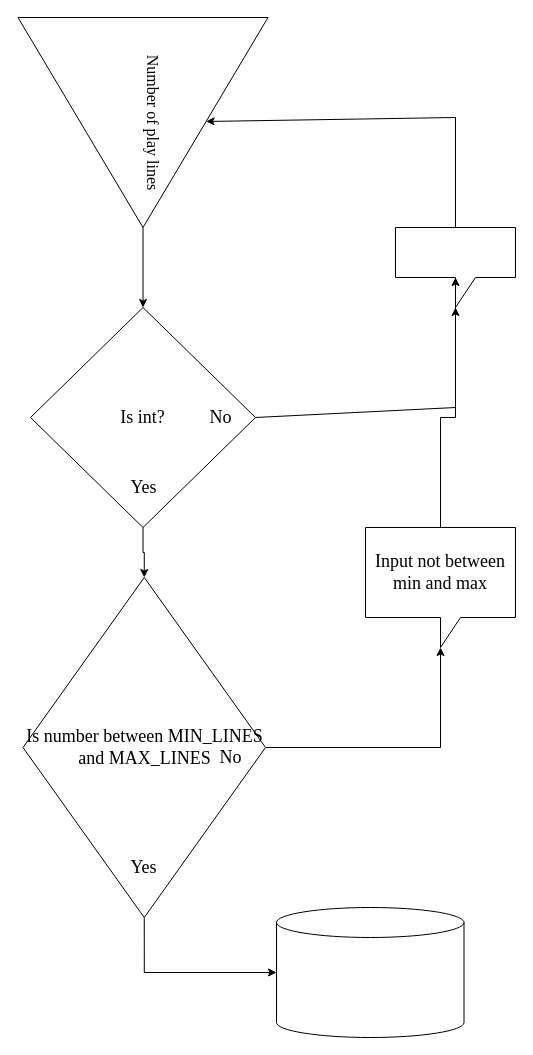
This 533x1055 diagram has some shape labels left out. The shapes that lost their labels are listed below. From the top down, each one's centre as x and y in pixels, then its label:
At (x=455, y=267): "inpu is not an whole number".
At (x=370, y=972): "Return lines".
